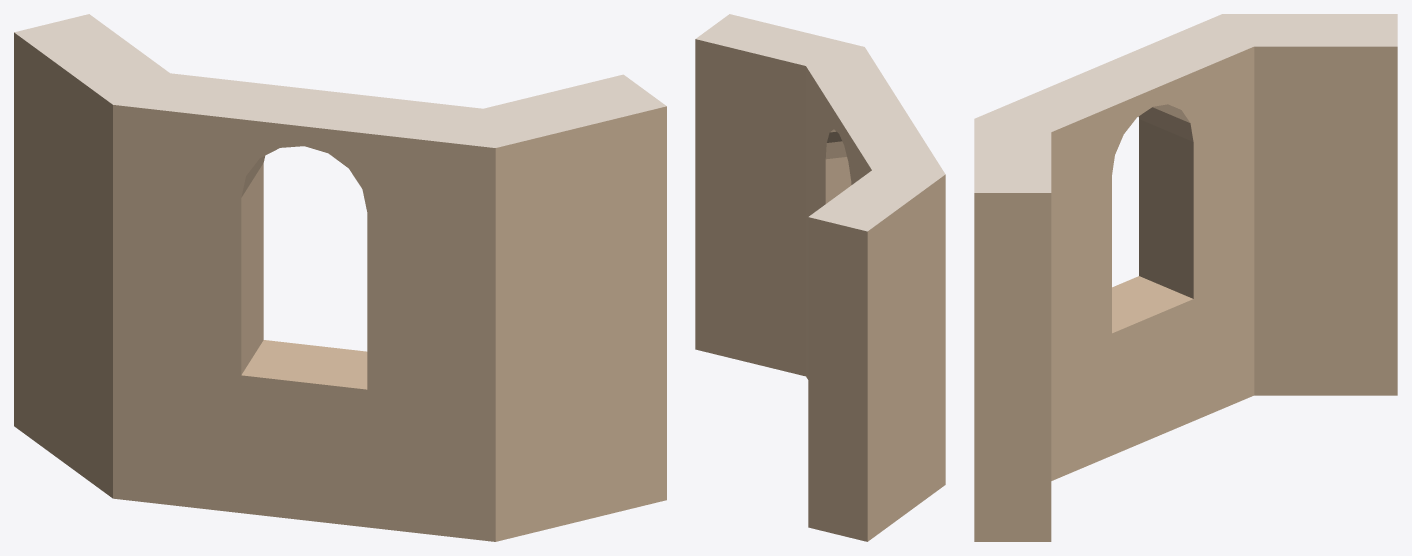
Rendered from Wall_Curved_Small_Window.fbx.
3 renders of one model, left to right at view 1: azimuth 30°, elevation 25°; view 2: azimuth 150°, elevation 25°; view 3: azimuth 270°, elevation 25°, orthographic. The views are drawn at different scales.
Parts seen in each view (by area): view 1: Sandstone_Trim.object1, Sandstone_Floor; view 2: Sandstone_Trim.object1, Sandstone_Floor; view 3: Sandstone_Trim.object1, Sandstone_Floor.
Boxes of the visible parts, left/top/right/bottom form: Sandstone_Trim.object1: left=14, top=32, right=666, bottom=541; Sandstone_Floor: left=14, top=14, right=666, bottom=147; Sandstone_Trim.object1: left=695, top=39, right=945, bottom=541; Sandstone_Floor: left=696, top=14, right=945, bottom=231; Sandstone_Trim.object1: left=974, top=46, right=1397, bottom=541; Sandstone_Floor: left=974, top=14, right=1397, bottom=192.
Size of the model in its own units: 1.1 by 1 by 1.1.
